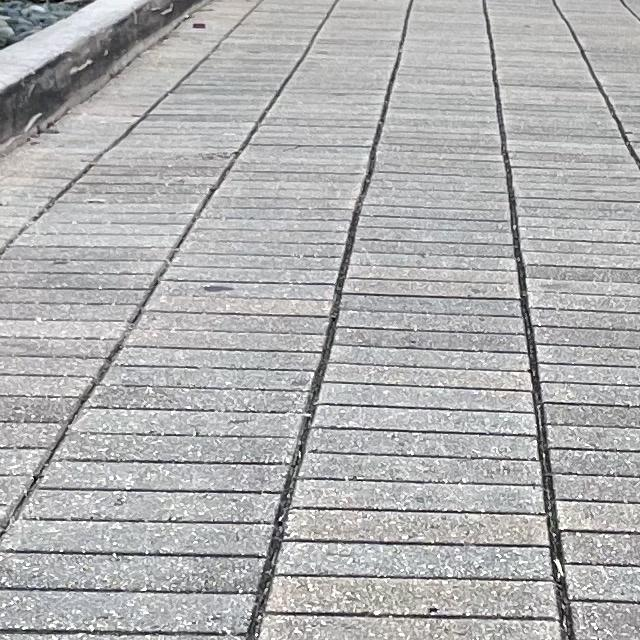curb: (0, 0, 201, 154)
